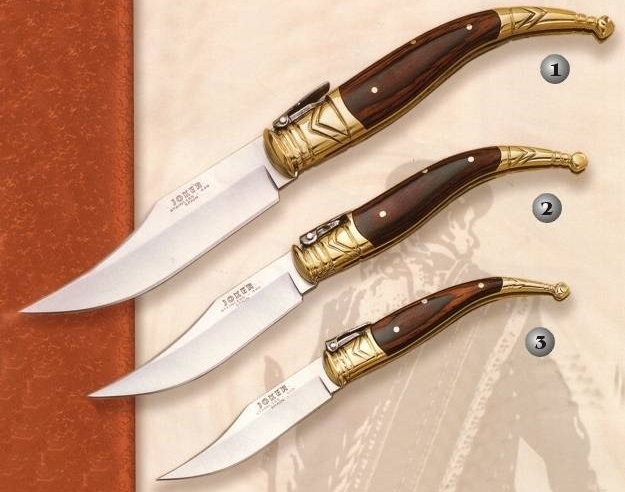knife: (11, 148, 272, 316), (83, 271, 293, 402), (155, 397, 327, 485)
